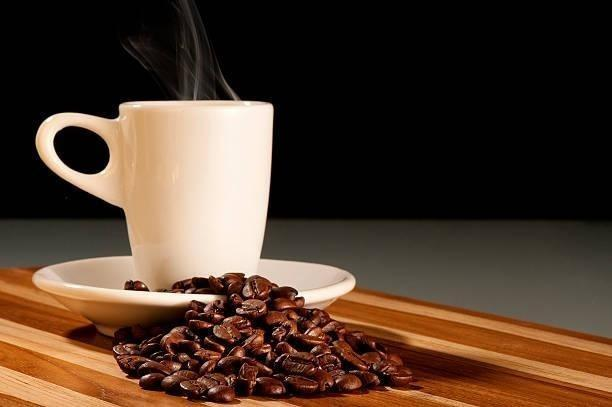cup-handle: (35, 97, 275, 294)
